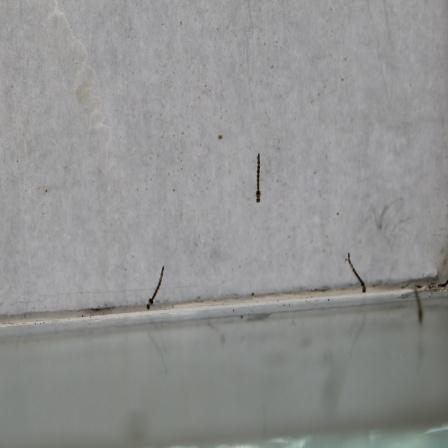Jentik-Nyamuk: (143, 265, 169, 310), (250, 149, 269, 207), (344, 252, 368, 296)
